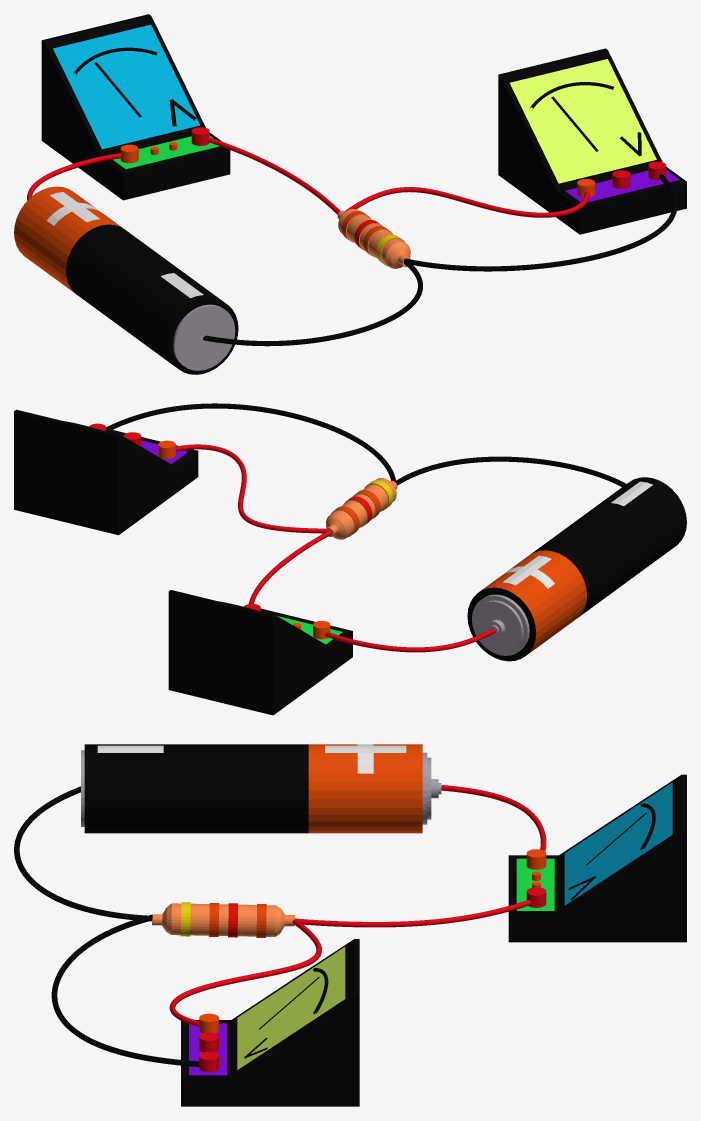
The model's file is ohms.glb.
The picture shows the model from 3 angles, top to bottom: view 1: azimuth 30°, elevation 25°; view 2: azimuth 150°, elevation 25°; view 3: azimuth 270°, elevation 25°; orthographic projection. The views are drawn at different scales.
Parts seen in each view (by area): view 1: Cube, Cube.001, Cylinder.008, Cylinder.007, NurbsPath.003, NurbsPath.002, NurbsPath.006, NurbsPath.005, NurbsPath.004; view 2: Cylinder.008, Cube.001, Cube, Cylinder.007, NurbsPath.003, NurbsPath.002, NurbsPath.006, NurbsPath.004, NurbsPath.005; view 3: Cylinder.008, Cube, Cube.001, Cylinder.007, NurbsPath.003, NurbsPath.002, NurbsPath.006, NurbsPath.005, NurbsPath.004.
Boxes of the visible parts, left/top/right/bottom form: Cube: left=41, top=14, right=230, bottom=200; Cube.001: left=498, top=48, right=686, bottom=234; Cylinder.008: left=14, top=186, right=238, bottom=374; Cylinder.007: left=337, top=209, right=410, bottom=268; NurbsPath.003: left=404, top=174, right=677, bottom=271; NurbsPath.002: left=203, top=261, right=422, bottom=346; NurbsPath.006: left=345, top=187, right=589, bottom=217; NurbsPath.005: left=208, top=137, right=340, bottom=214; NurbsPath.004: left=27, top=153, right=121, bottom=200; Cylinder.008: left=467, top=477, right=686, bottom=661; Cube.001: left=14, top=409, right=198, bottom=535; Cube: left=168, top=590, right=352, bottom=715; Cylinder.007: left=326, top=478, right=397, bottom=539; NurbsPath.003: left=106, top=403, right=396, bottom=482; NurbsPath.002: left=396, top=456, right=625, bottom=486; NurbsPath.006: left=176, top=444, right=327, bottom=533; NurbsPath.004: left=325, top=628, right=495, bottom=652; NurbsPath.005: left=248, top=530, right=331, bottom=603; Cylinder.008: left=81, top=744, right=441, bottom=833; Cube: left=508, top=774, right=686, bottom=942; Cube.001: left=181, top=939, right=359, bottom=1106; Cylinder.007: left=152, top=902, right=295, bottom=937; NurbsPath.003: left=51, top=914, right=199, bottom=1066; NurbsPath.002: left=14, top=786, right=151, bottom=921; NurbsPath.006: left=169, top=918, right=321, bottom=1026; NurbsPath.005: left=296, top=900, right=531, bottom=927; NurbsPath.004: left=441, top=785, right=546, bottom=850.
Bounding box in the file's own units: 3.74 × 0.6671 × 3.54.
